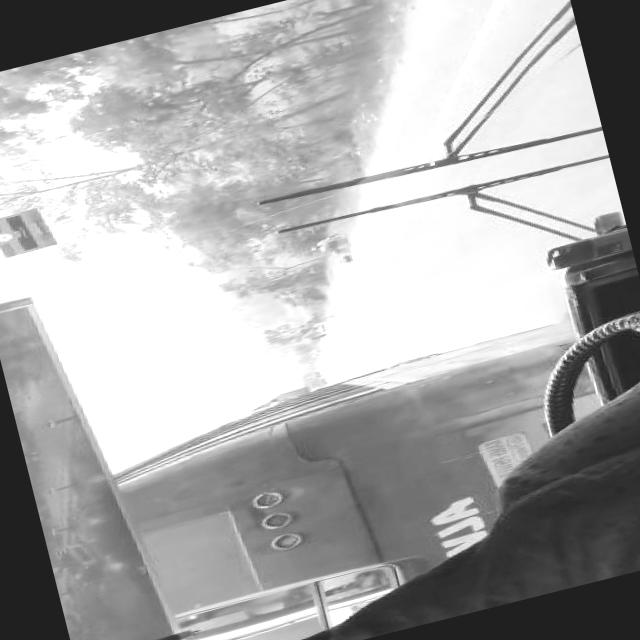bus: (99, 314, 624, 640)
